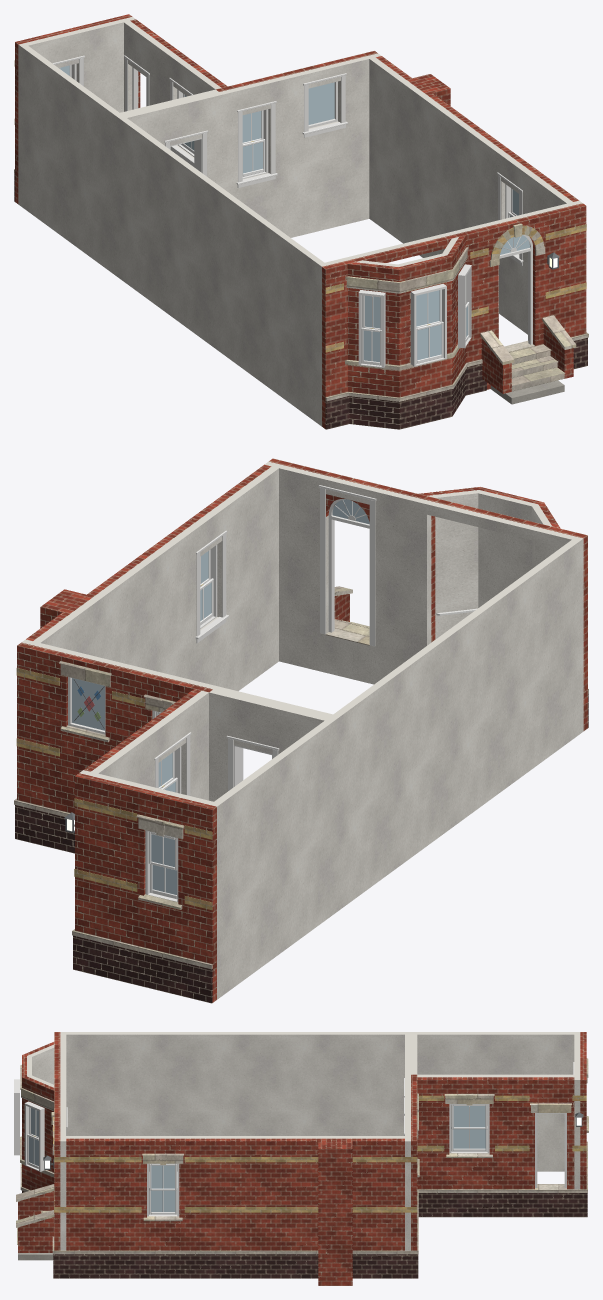
File: shell_0_r.glb
3 views of the same model, one above another, from view 1: azimuth 30°, elevation 25°; view 2: azimuth 150°, elevation 25°; view 3: azimuth 270°, elevation 25° (orthographic). The views are drawn at different scales.
Visible parts, largest first — view 1: shell_0_r_plaster, shell_0_r_brick, shell_0_r_stone_c, shell_0_r_glass, shell_0_r_brick_d, shell_0_r_trim, shell_0_r_frame, shell_0_r_sash, shell_0_r_brick_y, shell_0_r_conc_s; view 2: shell_0_r_plaster, shell_0_r_brick, shell_0_r_brick_d, shell_0_r_trim, shell_0_r_stone_c, shell_0_r_glass, shell_0_r_brick_y, shell_0_r_frame, shell_0_r_sash; view 3: shell_0_r_brick, shell_0_r_plaster, shell_0_r_brick_d, shell_0_r_stone_c, shell_0_r_brick_y, shell_0_r_glass, shell_0_r_frame, shell_0_r_sash.
Part boxes in pixels (x1,y1,x2,y2): shell_0_r_plaster: [18, 17, 582, 426]; shell_0_r_brick: [15, 14, 586, 428]; shell_0_r_stone_c: [14, 169, 588, 401]; shell_0_r_glass: [60, 65, 529, 362]; shell_0_r_brick_d: [14, 173, 587, 429]; shell_0_r_trim: [52, 55, 532, 344]; shell_0_r_frame: [71, 64, 510, 367]; shell_0_r_sash: [59, 65, 519, 365]; shell_0_r_brick_y: [14, 60, 586, 352]; shell_0_r_conc_s: [490, 380, 564, 404]; shell_0_r_plaster: [21, 461, 583, 999]; shell_0_r_brick: [17, 458, 587, 1002]; shell_0_r_brick_d: [15, 693, 588, 1003]; shell_0_r_trim: [154, 485, 477, 795]; shell_0_r_stone_c: [14, 586, 588, 969]; shell_0_r_glass: [72, 499, 369, 894]; shell_0_r_brick_y: [16, 668, 212, 910]; shell_0_r_frame: [68, 545, 217, 901]; shell_0_r_sash: [148, 549, 213, 899]; shell_0_r_brick: [18, 1032, 586, 1285]; shell_0_r_plaster: [27, 1032, 580, 1250]; shell_0_r_brick_d: [22, 1191, 587, 1278]; shell_0_r_stone_c: [16, 1058, 588, 1254]; shell_0_r_brick_y: [53, 1095, 586, 1212]; shell_0_r_glass: [29, 1106, 485, 1211]; shell_0_r_frame: [14, 1079, 566, 1216]; shell_0_r_sash: [27, 1104, 487, 1214].
Size of the model in its own units: 6.85 by 3.75 by 14.26.
17 materials, 6 textured.
